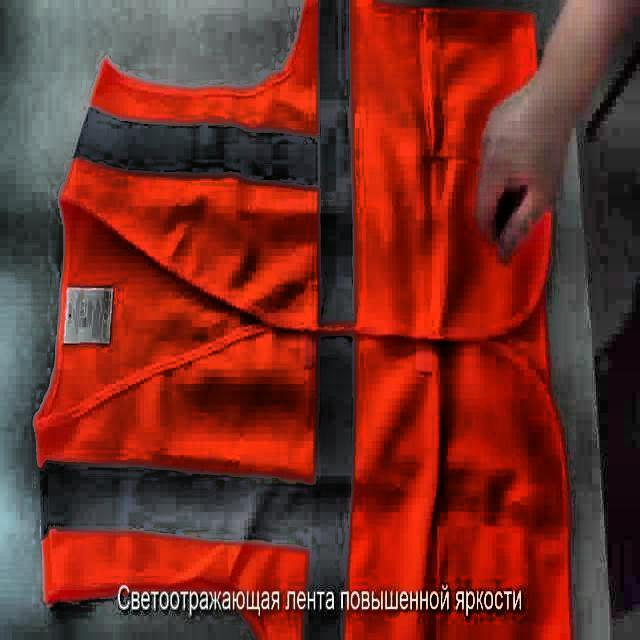safety_jacket: (33, 0, 574, 640)
